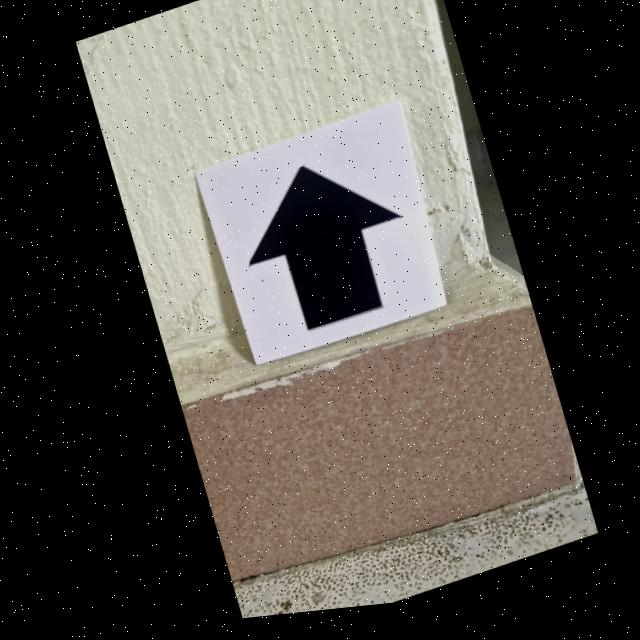UP: (247, 172, 396, 336)
